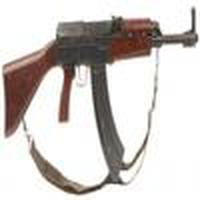gun: (10, 14, 199, 151)
